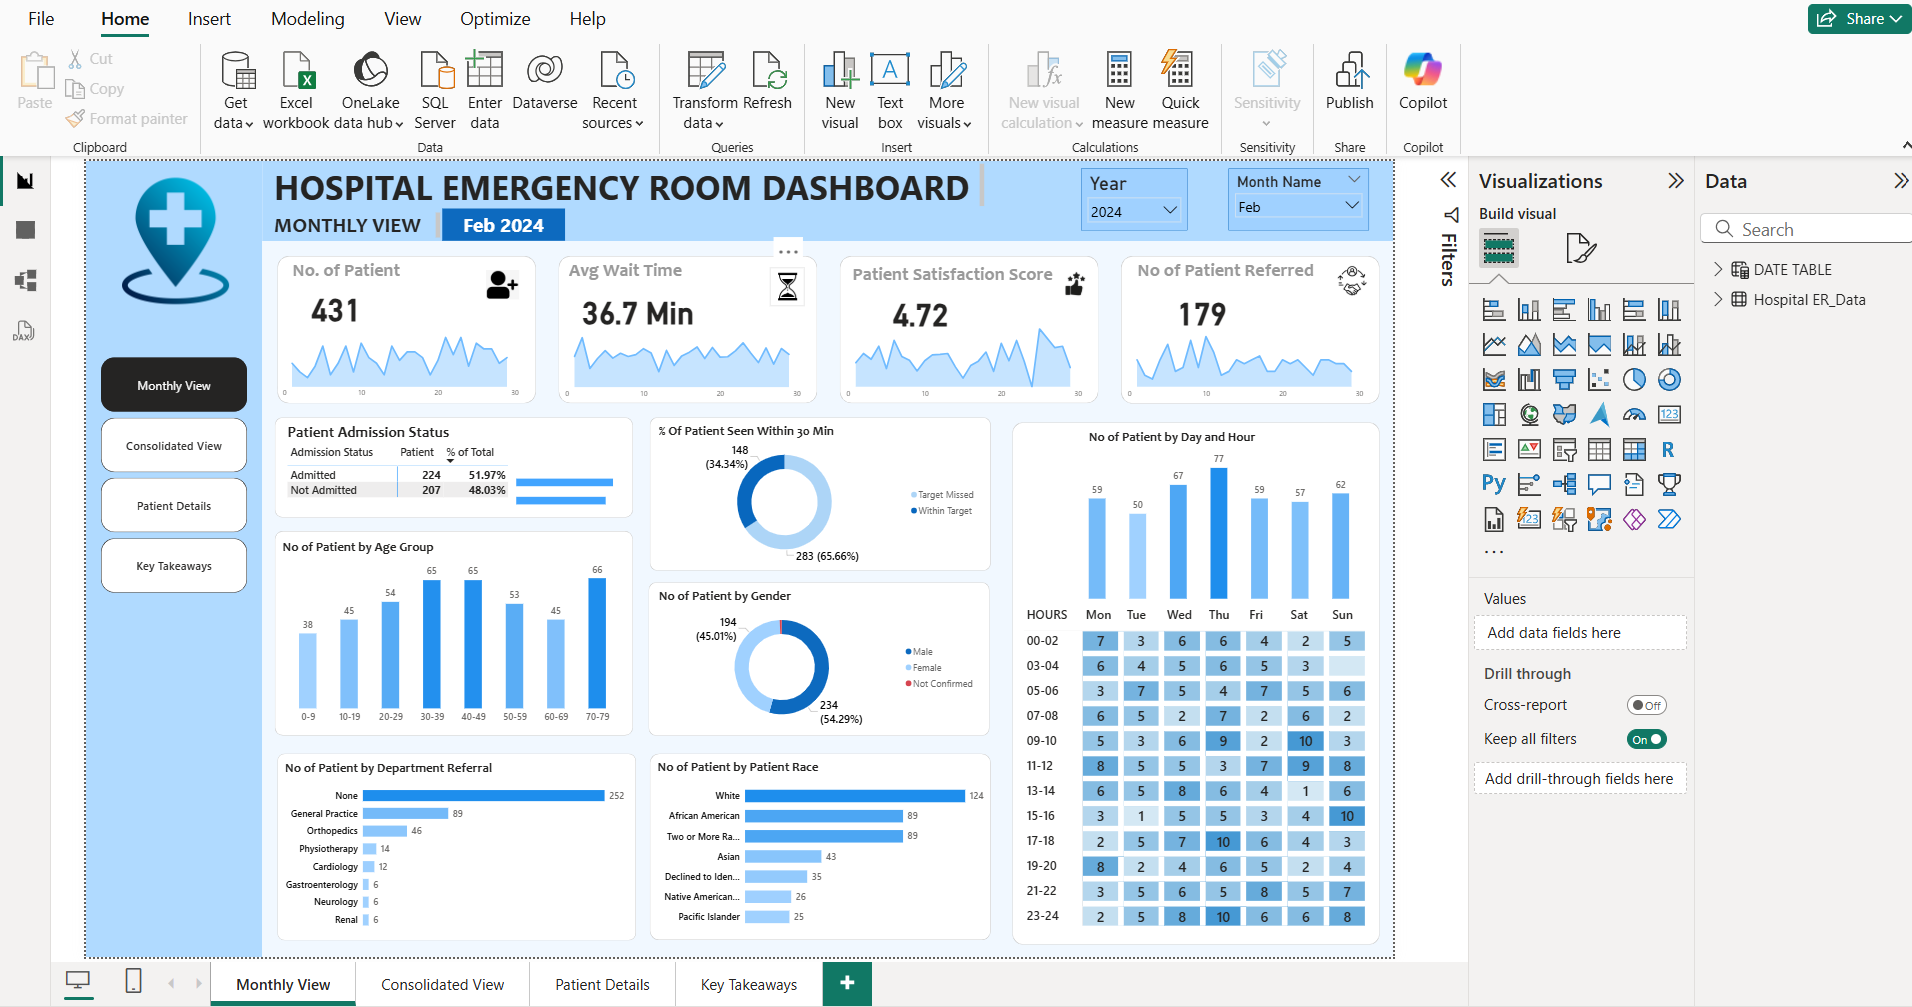

The dashboard page shown, as its layout file describes it:
{"tool":"powerbi","page":{"name":"Monthly View","canvas":[2300,1400],"ordinal":0},"visuals":[{"type":"shape","box":[830.3,168.2,455,259.1],"z":0},{"type":"shape","box":[0,0,310,1400.4],"z":1000},{"type":"shape","box":[310,0,1989.6,140.7],"z":2000},{"type":"textbox","box":[325.4,0,1259.7,85.7],"z":3000},{"type":"textbox","box":[325,86.4,302.3,54.5],"z":4000},{"type":"card","fields":{"Values":["Hospital ER_Data.No of Patient"]},"box":[350,211.7,158.3,68.3],"z":5000},{"type":"slicer","fields":{"Values":["DATE TABLE.Year"]},"box":[1750,13.8,187.5,108.8],"z":6000},{"type":"slicer","fields":{"Values":["DATE TABLE.Month Name"]},"box":[2010,14.3,247.1,108.6],"z":7000},{"type":"textbox","box":[350,156.8,236.4,59.1],"z":8000},{"type":"areaChart","fields":{"Y":["Hospital ER_Data.No of Patient"],"Category":["DATE TABLE.Date.Variation.Date Hierarchy.Day"]},"box":[325,271.7,435,145],"z":9000},{"type":"card","fields":{"Values":["Min(DATE TABLE.Month & Year)"]},"box":[627.3,84.1,215.9,56.8],"z":10000},{"type":"shape","box":[335.4,166.1,455,259.4],"z":11000},{"type":"card","fields":{"Values":["Hospital ER_Data.No of Patient"]},"box":[360,221.7,158.3,68.3],"z":12000},{"type":"textbox","box":[359.1,168.2,236.4,59.1],"z":13000},{"type":"areaChart","fields":{"Y":["Hospital ER_Data.No of Patient"],"Category":["DATE TABLE.Date.Variation.Date Hierarchy.Day"]},"box":[335,281.7,435,145],"z":14000},{"type":"shape","box":[1325.1,168.2,455,259.1],"z":15000},{"type":"shape","box":[1820,167.5,455,260],"z":16000},{"type":"textbox","box":[843.2,168.2,236.4,59.1],"z":17000},{"type":"card","fields":{"Values":["Hospital ER_Data.Avg Wait Time"]},"box":[852.5,227.5,236.2,67.5],"z":18000},{"type":"areaChart","fields":{"Y":["Avg(Hospital ER_Data.Patient Waittime)"],"Category":["DATE TABLE.Date.Variation.Date Hierarchy.Day"]},"box":[831.8,281.8,434.1,145.5],"z":19000},{"type":"textbox","box":[1343.3,173.3,401.7,60],"z":20000},{"type":"textbox","box":[1844,168,408,60],"z":21000},{"type":"card","fields":{"Values":["Hospital ER_Data.Satisfaction Score"]},"box":[1350,230,236,68],"z":22000},{"type":"areaChart","fields":{"Category":["DATE TABLE.Date.Variation.Date Hierarchy.Day"],"Y":["Hospital ER_Data.Satisfaction Score"]},"box":[1326,282,434,146],"z":23000},{"type":"card","fields":{"Values":["Hospital ER_Data.No of Patient Referred"]},"box":[1844,228,236,68],"z":24000},{"type":"areaChart","fields":{"Category":["DATE TABLE.Date.Variation.Date Hierarchy.Day"],"Y":["Hospital ER_Data.No of Patient Referred"]},"box":[1820,282,434,146],"z":25000},{"type":"shape","box":[331.7,451.7,630,176.7],"z":26000},{"type":"pivotTable","title":"Patient Admission Status","fields":{"Rows":["Hospital ER_Data.Admission Status"],"Values":["Hospital ER_Data.No of Patient1","Hospital ER_Data.No of Patient"]},"box":[350,460,591.7,160],"z":27000},{"type":"barChart","fields":{"Category":["Hospital ER_Data.Admission Status"],"Y":["Hospital ER_Data.No of Patient"]},"box":[751,530,238,98],"z":28000},{"type":"shape","box":[331.7,651.7,630,360],"z":29000},{"type":"clusteredColumnChart","fields":{"Category":["Hospital ER_Data.Age Group"],"Y":["Hospital ER_Data.No of Patient"]},"box":[341.7,665,610,335],"z":30000},{"type":"shape","box":[335.6,1042.2,631.1,328.9],"z":31000},{"type":"clusteredBarChart","fields":{"Category":["Hospital ER_Data.Department Referral"],"Y":["Hospital ER_Data.No of Patient"]},"box":[346.2,1052.5,610,310],"z":32000},{"type":"shape","box":[991.7,451.7,600,270],"z":33000},{"type":"donutChart","title":"% Of Patient Seen Within 30 Min","fields":{"Category":["Hospital ER_Data.Wait Time Status"],"Y":["Hospital ER_Data.No of Patient"]},"box":[1003.3,460,573.3,253.3],"z":34000},{"type":"shape","box":[990,741.7,600,270],"z":35000},{"type":"donutChart","title":"No of Patient by Gender","fields":{"Y":["Hospital ER_Data.No of Patient"],"Category":["Hospital ER_Data.Patient Gender"]},"box":[1003.3,750,571.7,253.3],"z":36000},{"type":"shape","box":[991.7,1041.7,600,328.3],"z":37000},{"type":"clusteredBarChart","fields":{"Y":["Hospital ER_Data.No of Patient"],"Category":["Hospital ER_Data.Patient Race"]},"box":[1000,1051.7,585,310],"z":38000},{"type":"shape","box":[1629.1,459.5,646.4,919],"z":39000},{"type":"pivotTable","fields":{"Rows":["Hospital ER_Data.Wait Time Interval"],"Columns":["DATE TABLE.Day Name"],"Values":["Hospital ER_Data.No of Patient"]},"box":[1644.5,776.1,613.4,584.8],"z":40000},{"type":"columnChart","title":"No of Patient by Day and Hour","fields":{"Category":["DATE TABLE.Day Name"],"Y":["Hospital ER_Data.No of Patient"]},"box":[1758.8,470.5,470.5,305.6],"z":41000},{"type":"image","box":[39.6,24.2,235.2,233],"z":42000},{"type":"image","box":[694.2,186.7,75.8,61.7],"z":43000},{"type":"image","box":[1201.7,186.7,63.3,68.3],"z":44000},{"type":"image","box":[1701.7,176.7,76.7,80],"z":45000},{"type":"image","box":[2190,176,75,70],"z":46000},{"type":"pageNavigator","box":[26.4,345.2,257.2,415.5],"z":46001}]}

Visuals, with their boxes on the page's 2300x1400 design canvas (x1, y1, x2, y2). These are canvas units, not pixel positions in the 1912x1007 screenshot, which may show the page scaled, cropped or inside an application window:
shape: {"left": 830, "top": 168, "right": 1285, "bottom": 427}
shape: {"left": 0, "top": 0, "right": 310, "bottom": 1400}
shape: {"left": 310, "top": 0, "right": 2300, "bottom": 141}
textbox: {"left": 325, "top": 0, "right": 1585, "bottom": 86}
textbox: {"left": 325, "top": 86, "right": 627, "bottom": 141}
card - Hospital ER_Data.No of Patient: {"left": 350, "top": 212, "right": 508, "bottom": 280}
slicer - DATE TABLE.Year: {"left": 1750, "top": 14, "right": 1938, "bottom": 123}
slicer - DATE TABLE.Month Name: {"left": 2010, "top": 14, "right": 2257, "bottom": 123}
textbox: {"left": 350, "top": 157, "right": 586, "bottom": 216}
areaChart - Hospital ER_Data.No of Patient x DATE TABLE.Date.Variation.Date Hierarchy.Day: {"left": 325, "top": 272, "right": 760, "bottom": 417}
card - Min(DATE TABLE.Month & Year): {"left": 627, "top": 84, "right": 843, "bottom": 141}
shape: {"left": 335, "top": 166, "right": 790, "bottom": 426}
card - Hospital ER_Data.No of Patient: {"left": 360, "top": 222, "right": 518, "bottom": 290}
textbox: {"left": 359, "top": 168, "right": 596, "bottom": 227}
areaChart - Hospital ER_Data.No of Patient x DATE TABLE.Date.Variation.Date Hierarchy.Day: {"left": 335, "top": 282, "right": 770, "bottom": 427}
shape: {"left": 1325, "top": 168, "right": 1780, "bottom": 427}
shape: {"left": 1820, "top": 168, "right": 2275, "bottom": 428}
textbox: {"left": 843, "top": 168, "right": 1080, "bottom": 227}
card - Hospital ER_Data.Avg Wait Time: {"left": 852, "top": 228, "right": 1089, "bottom": 295}
areaChart - Avg(Hospital ER_Data.Patient Waittime) x DATE TABLE.Date.Variation.Date Hierarchy.Day: {"left": 832, "top": 282, "right": 1266, "bottom": 427}
textbox: {"left": 1343, "top": 173, "right": 1745, "bottom": 233}
textbox: {"left": 1844, "top": 168, "right": 2252, "bottom": 228}
card - Hospital ER_Data.Satisfaction Score: {"left": 1350, "top": 230, "right": 1586, "bottom": 298}
areaChart - DATE TABLE.Date.Variation.Date Hierarchy.Day x Hospital ER_Data.Satisfaction Score: {"left": 1326, "top": 282, "right": 1760, "bottom": 428}
card - Hospital ER_Data.No of Patient Referred: {"left": 1844, "top": 228, "right": 2080, "bottom": 296}
areaChart - DATE TABLE.Date.Variation.Date Hierarchy.Day x Hospital ER_Data.No of Patient Referred: {"left": 1820, "top": 282, "right": 2254, "bottom": 428}
shape: {"left": 332, "top": 452, "right": 962, "bottom": 628}
"Patient Admission Status" pivotTable: {"left": 350, "top": 460, "right": 942, "bottom": 620}
barChart - Hospital ER_Data.Admission Status x Hospital ER_Data.No of Patient: {"left": 751, "top": 530, "right": 989, "bottom": 628}
shape: {"left": 332, "top": 652, "right": 962, "bottom": 1012}
clusteredColumnChart - Hospital ER_Data.Age Group x Hospital ER_Data.No of Patient: {"left": 342, "top": 665, "right": 952, "bottom": 1000}
shape: {"left": 336, "top": 1042, "right": 967, "bottom": 1371}
clusteredBarChart - Hospital ER_Data.Department Referral x Hospital ER_Data.No of Patient: {"left": 346, "top": 1052, "right": 956, "bottom": 1362}
shape: {"left": 992, "top": 452, "right": 1592, "bottom": 722}
"% Of Patient Seen Within 30 Min" donutChart: {"left": 1003, "top": 460, "right": 1577, "bottom": 713}
shape: {"left": 990, "top": 742, "right": 1590, "bottom": 1012}
"No of Patient by Gender" donutChart: {"left": 1003, "top": 750, "right": 1575, "bottom": 1003}
shape: {"left": 992, "top": 1042, "right": 1592, "bottom": 1370}
clusteredBarChart - Hospital ER_Data.No of Patient x Hospital ER_Data.Patient Race: {"left": 1000, "top": 1052, "right": 1585, "bottom": 1362}
shape: {"left": 1629, "top": 460, "right": 2276, "bottom": 1378}
pivotTable - Hospital ER_Data.Wait Time Interval x DATE TABLE.Day Name: {"left": 1644, "top": 776, "right": 2258, "bottom": 1361}
"No of Patient by Day and Hour" columnChart: {"left": 1759, "top": 470, "right": 2229, "bottom": 776}
image: {"left": 40, "top": 24, "right": 275, "bottom": 257}
image: {"left": 694, "top": 187, "right": 770, "bottom": 248}
image: {"left": 1202, "top": 187, "right": 1265, "bottom": 255}
image: {"left": 1702, "top": 177, "right": 1778, "bottom": 257}
image: {"left": 2190, "top": 176, "right": 2265, "bottom": 246}
pageNavigator: {"left": 26, "top": 345, "right": 284, "bottom": 761}
